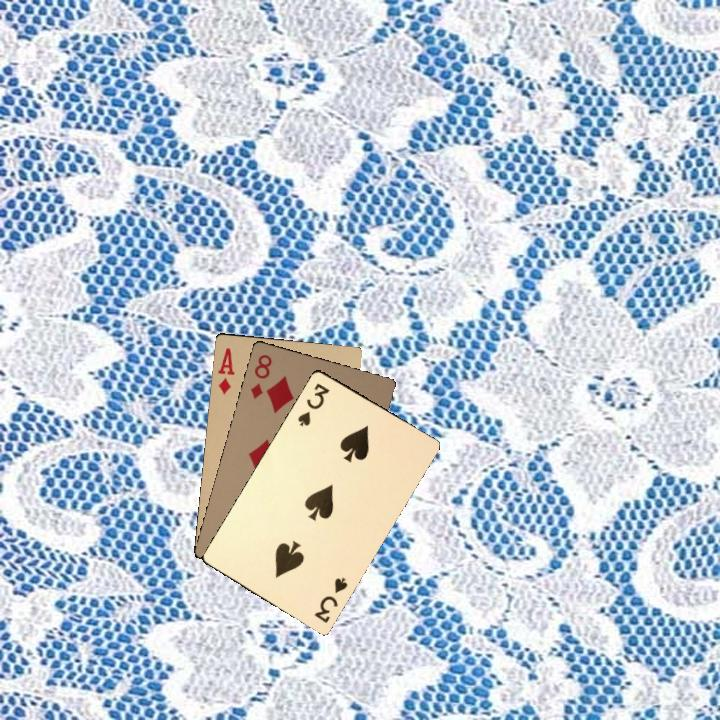3s: (310, 574, 350, 626), (294, 379, 332, 429)
8d: (246, 350, 274, 401)
Ad: (214, 344, 237, 395)
